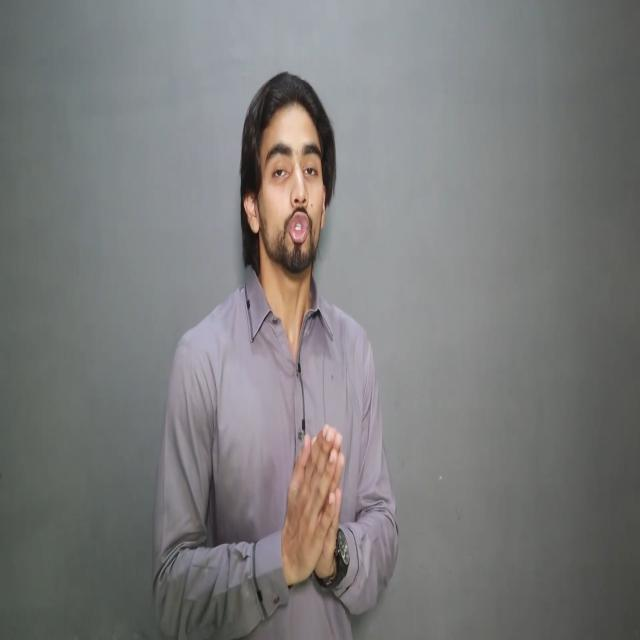dress: (151, 255, 401, 640)
